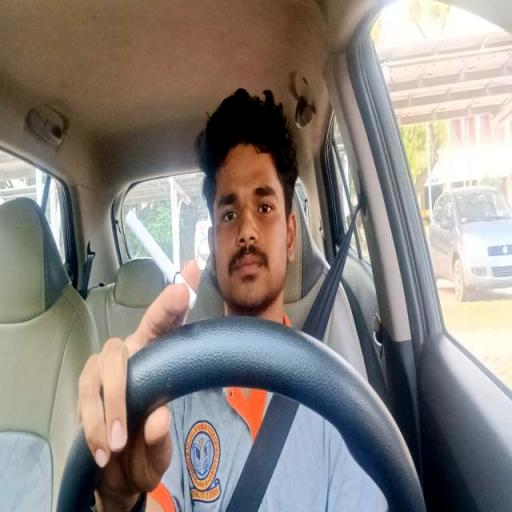Smoking: (49, 85, 411, 510)
